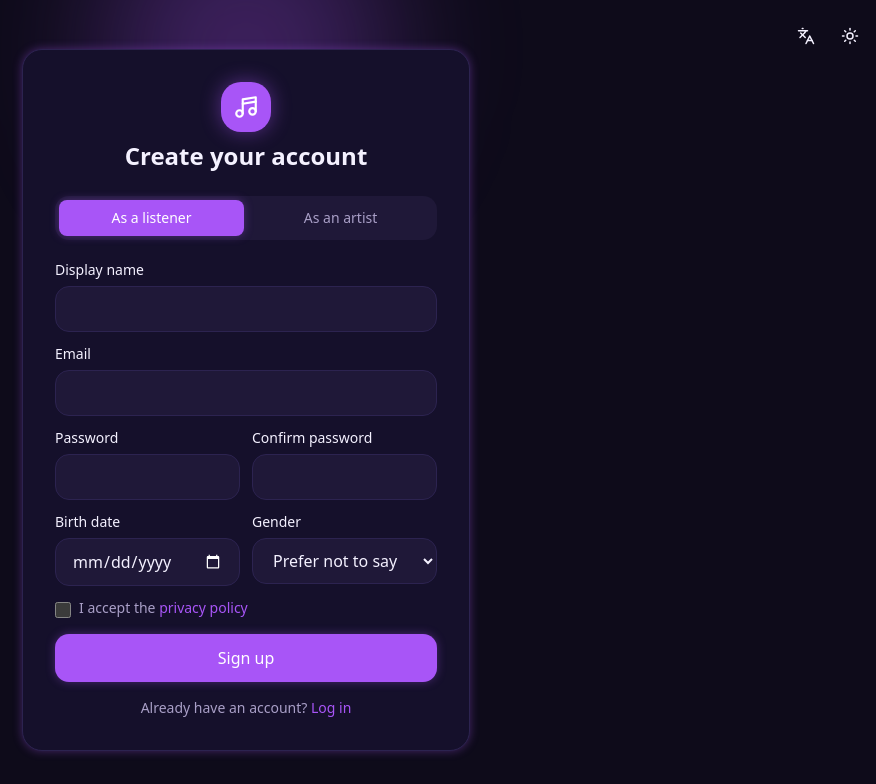
RegisterPage › flags mismatched passwords
In the field labelled "Display name": (246, 309) [55,286,437,332], type "Tester"
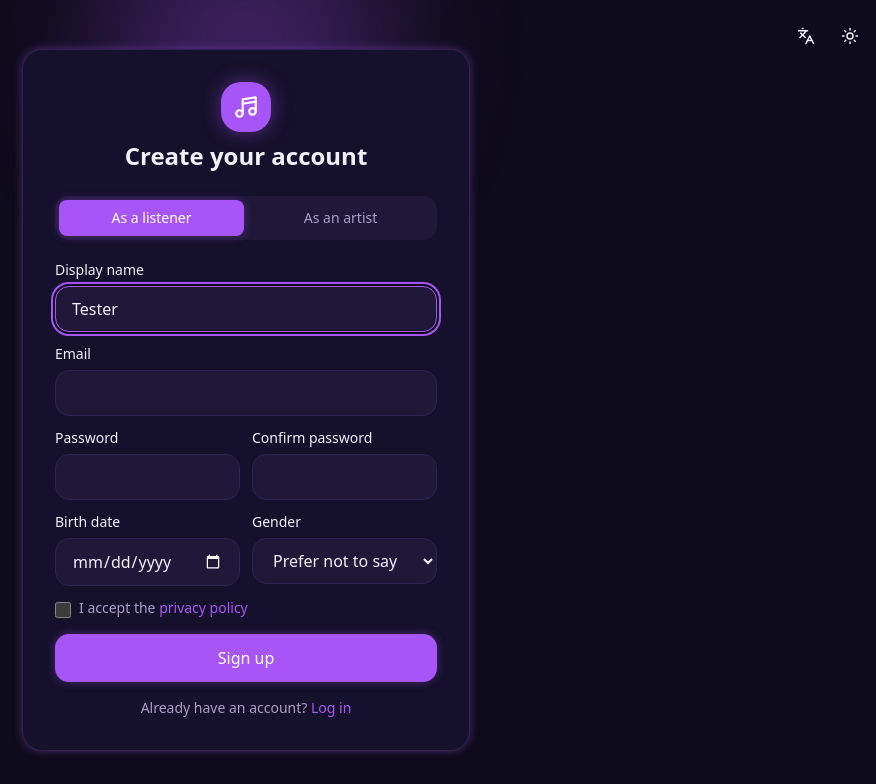
In the field labelled "Email": (246, 393) [55,370,437,416], type "tester@trimir.app"
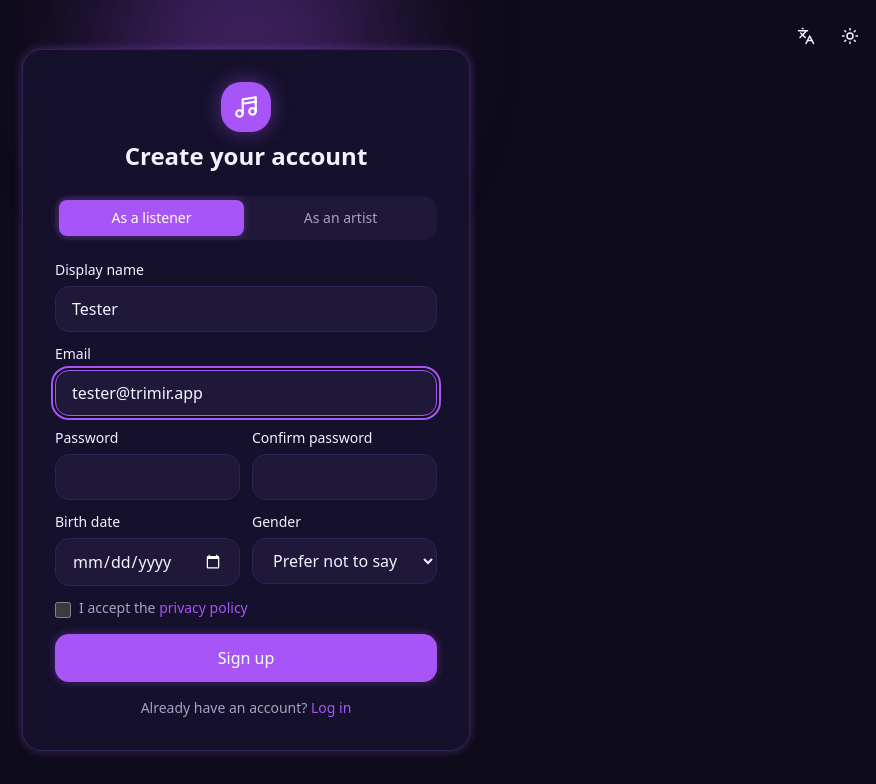
In the password field labelled "Password": (148, 477) [55,454,240,500], type "secret1"
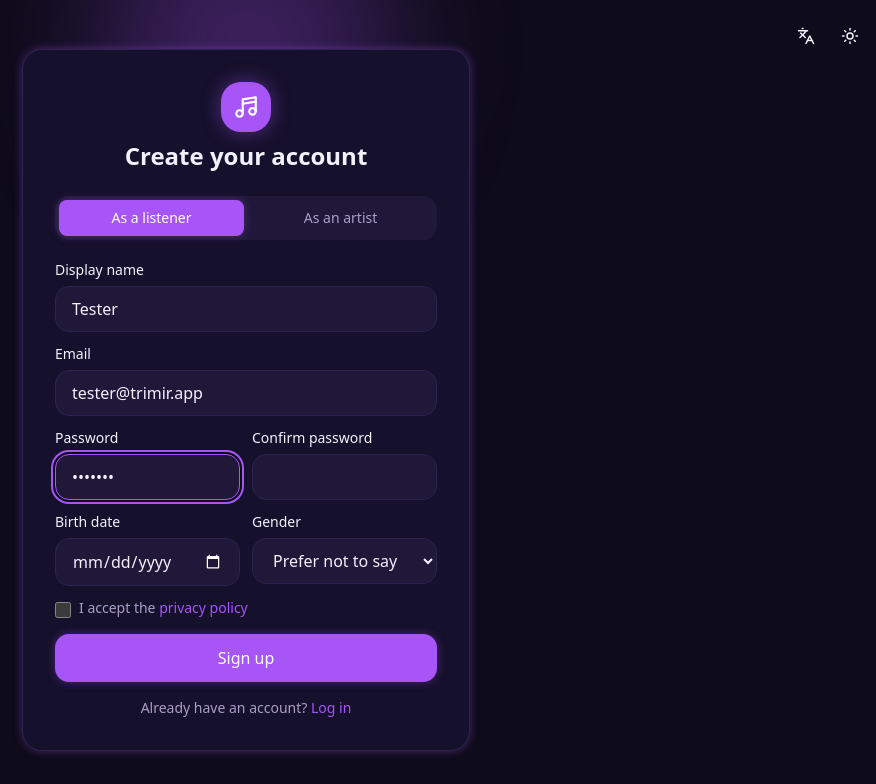
In the password field labelled "Confirm password": (344, 477) [252,454,437,500], type "secret2"
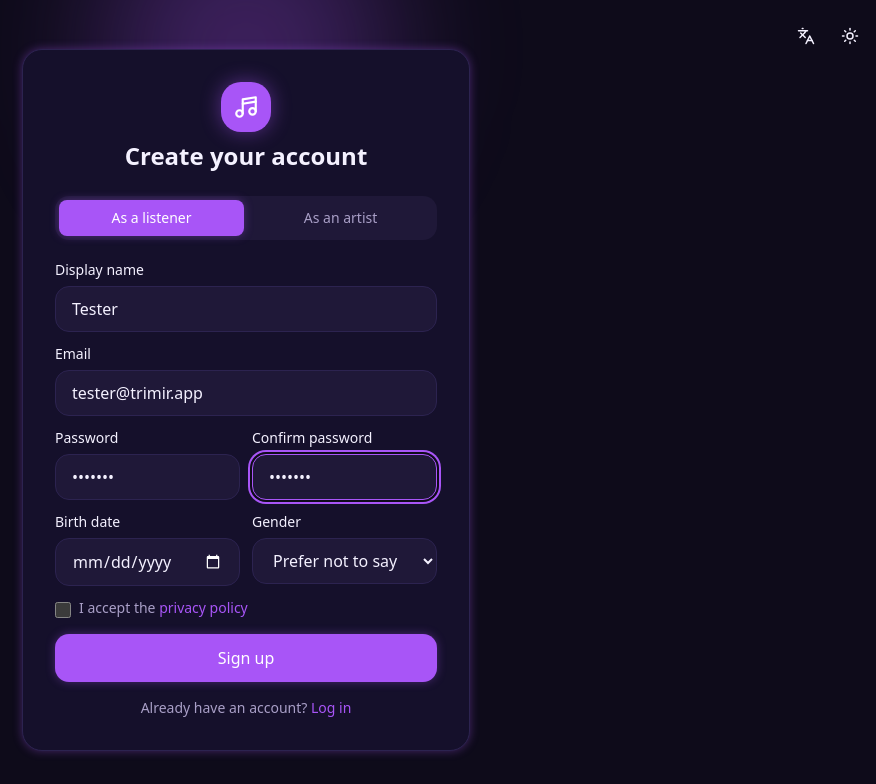
Click the checkbox: (63, 610) [55,602,71,618]
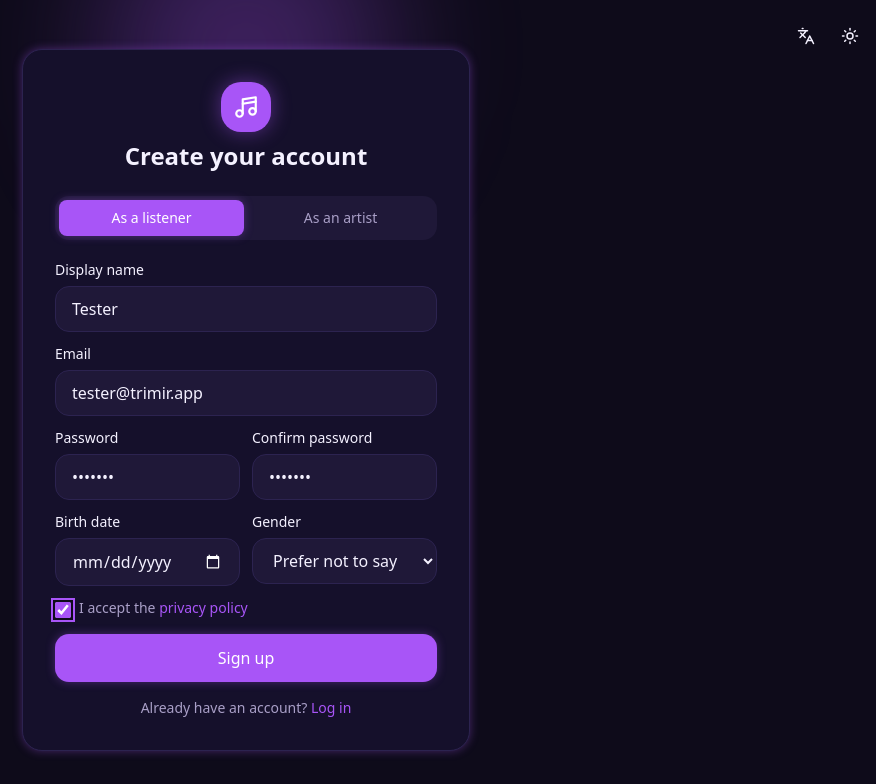
Click the button "Sign up": (246, 658) [55,634,437,682]
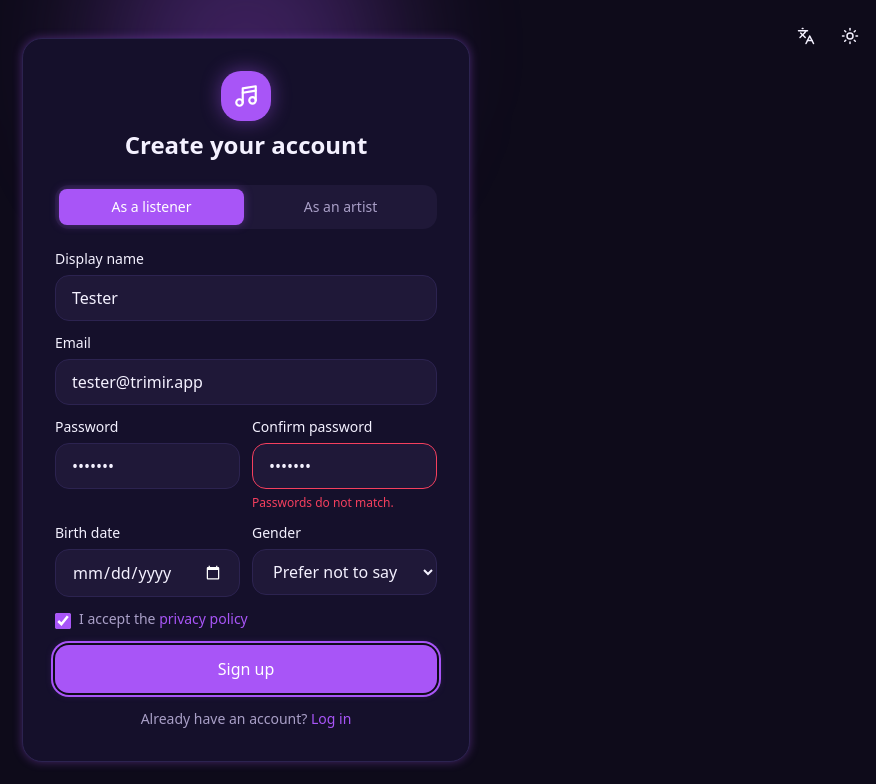
Result: the text "Passwords do not match." is shown at [252,494,394,511]
